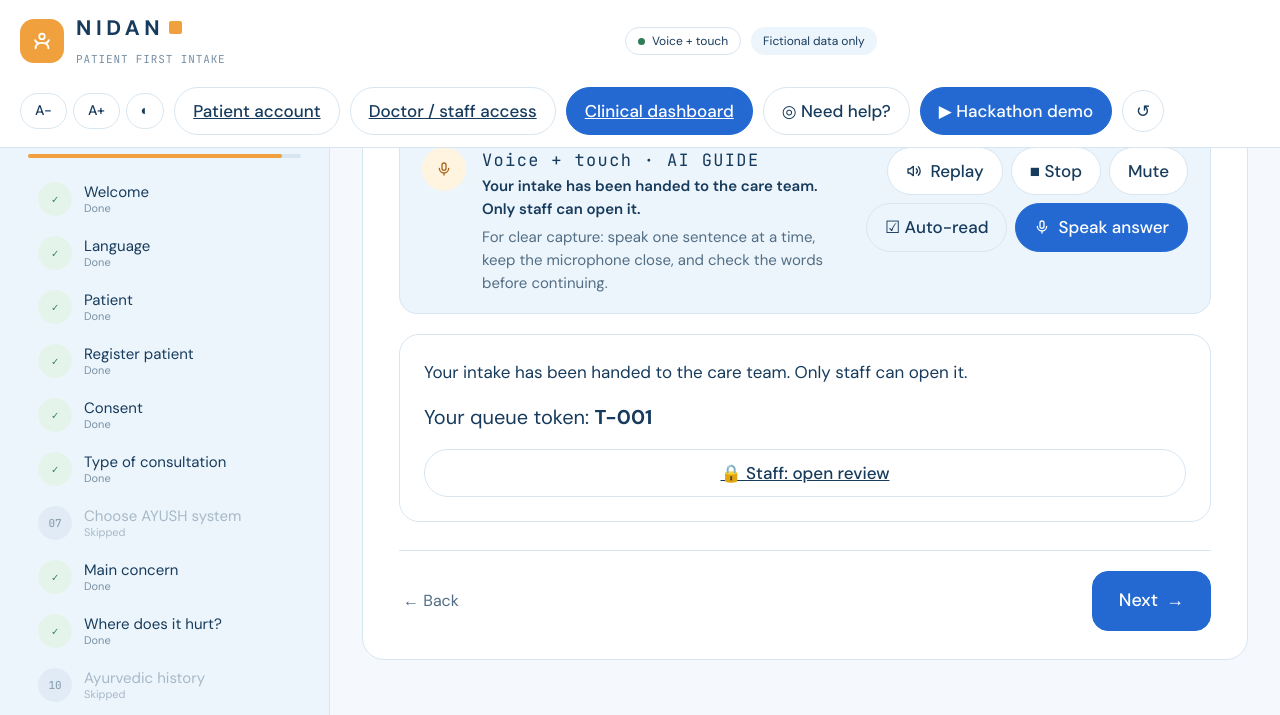
Test: staff area: no default PIN, encrypted hand-over, audit › patient can delete their data
The image size is (1280, 715).
(page scrolled)
Click the button "Next →" at (1151, 601), box [1092,571,1211,631]
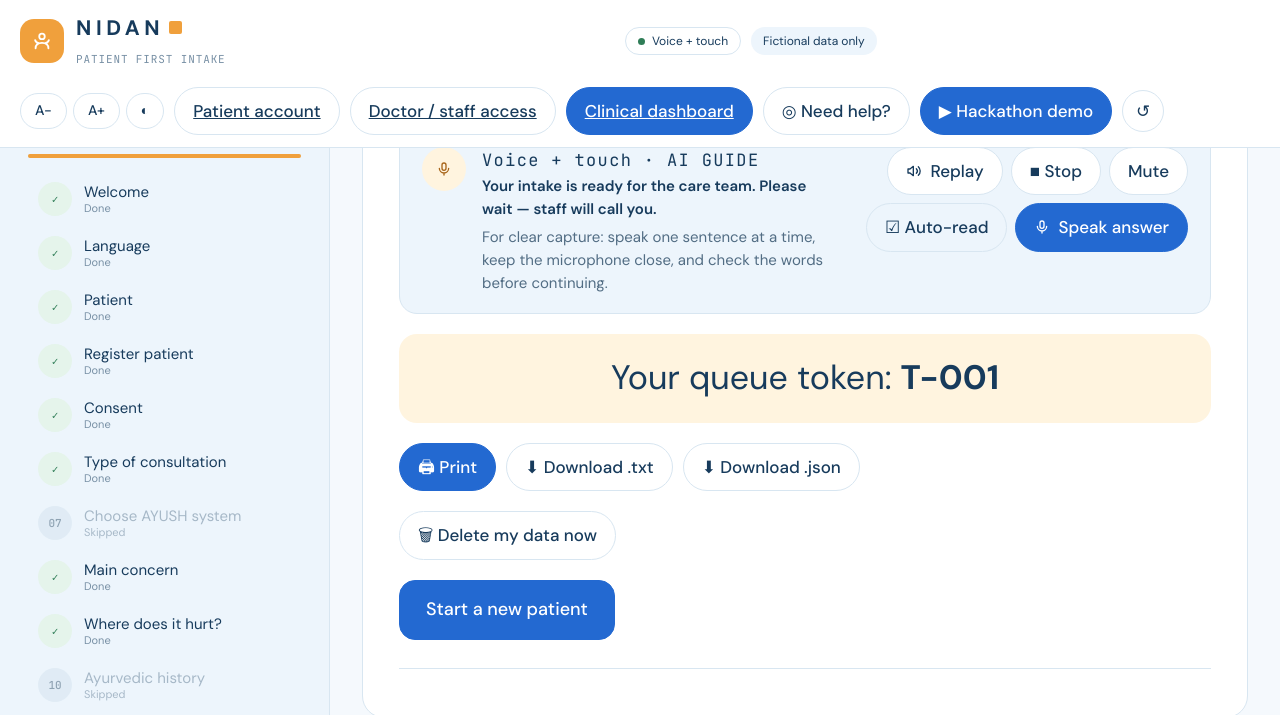
Click the button "🗑 Delete my data now" at (507, 536), box [399,512,616,560]
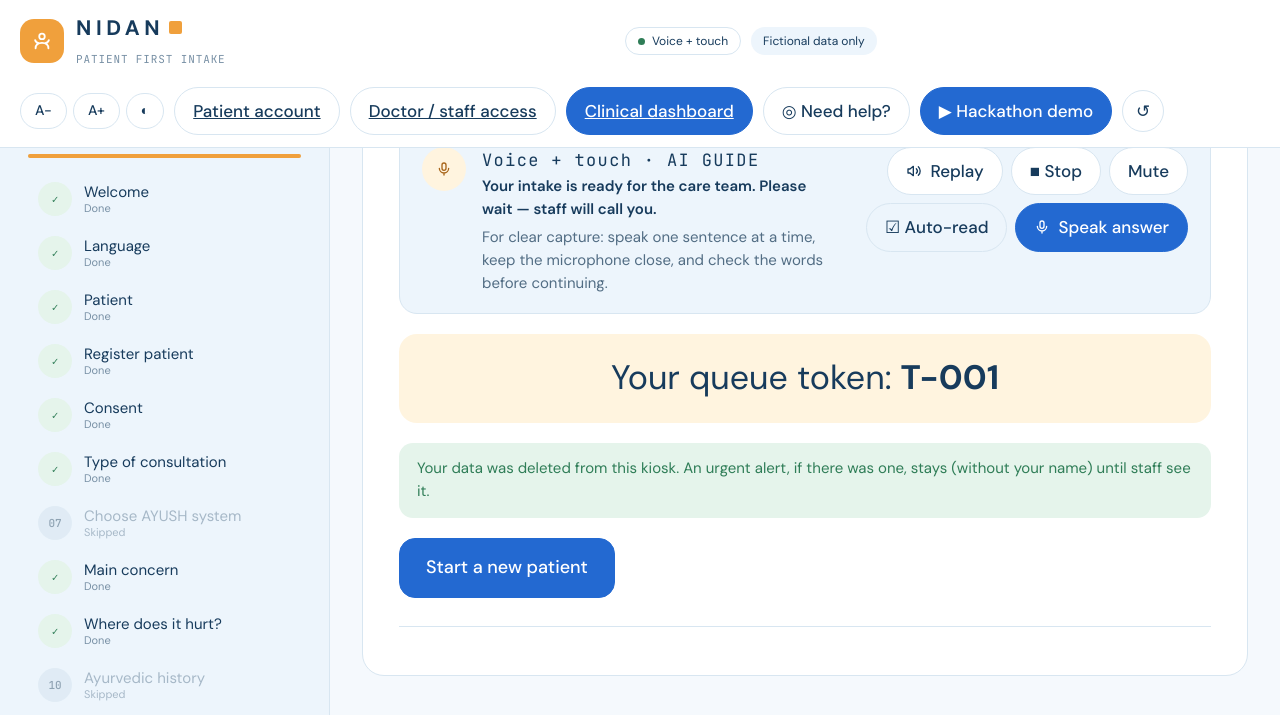
Expected: the text "Your data was deleted" is shown, [417,458,1191,501]
